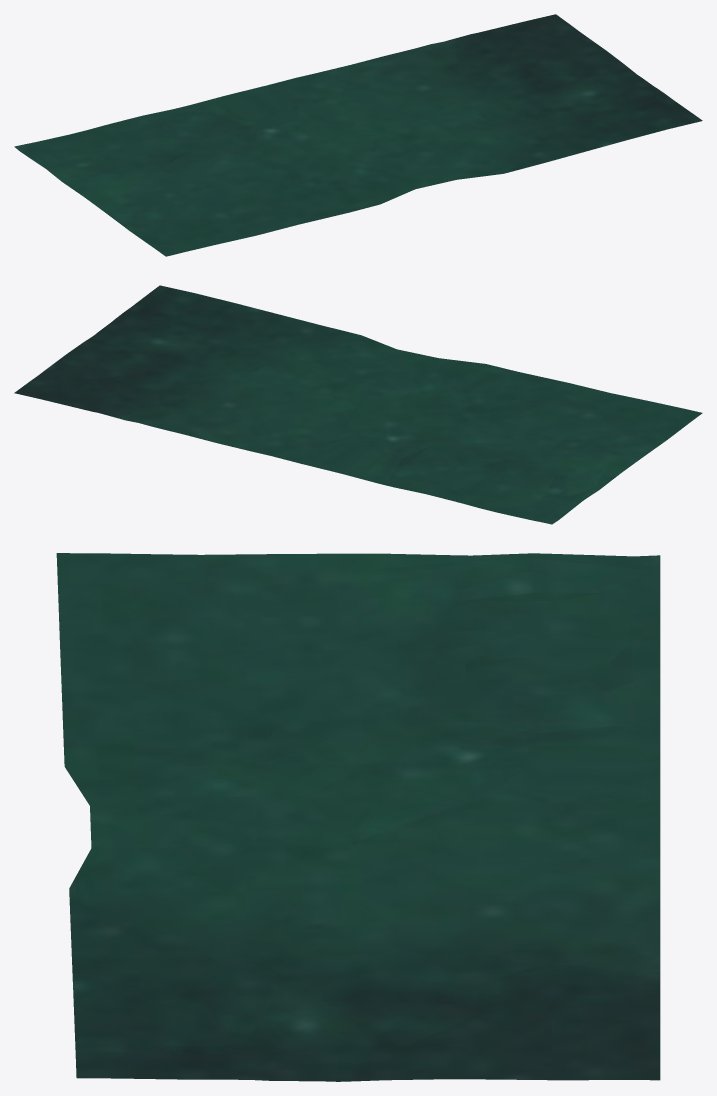
3 renders of one model, top to bottom at view 1: azimuth 30°, elevation 25°; view 2: azimuth 150°, elevation 25°; view 3: azimuth 270°, elevation 25°, orthographic. The views are drawn at different scales.
Bounding box in the file's own units: 52.22 × 0.3484 × 25.37.
1 material, 1 textured.
